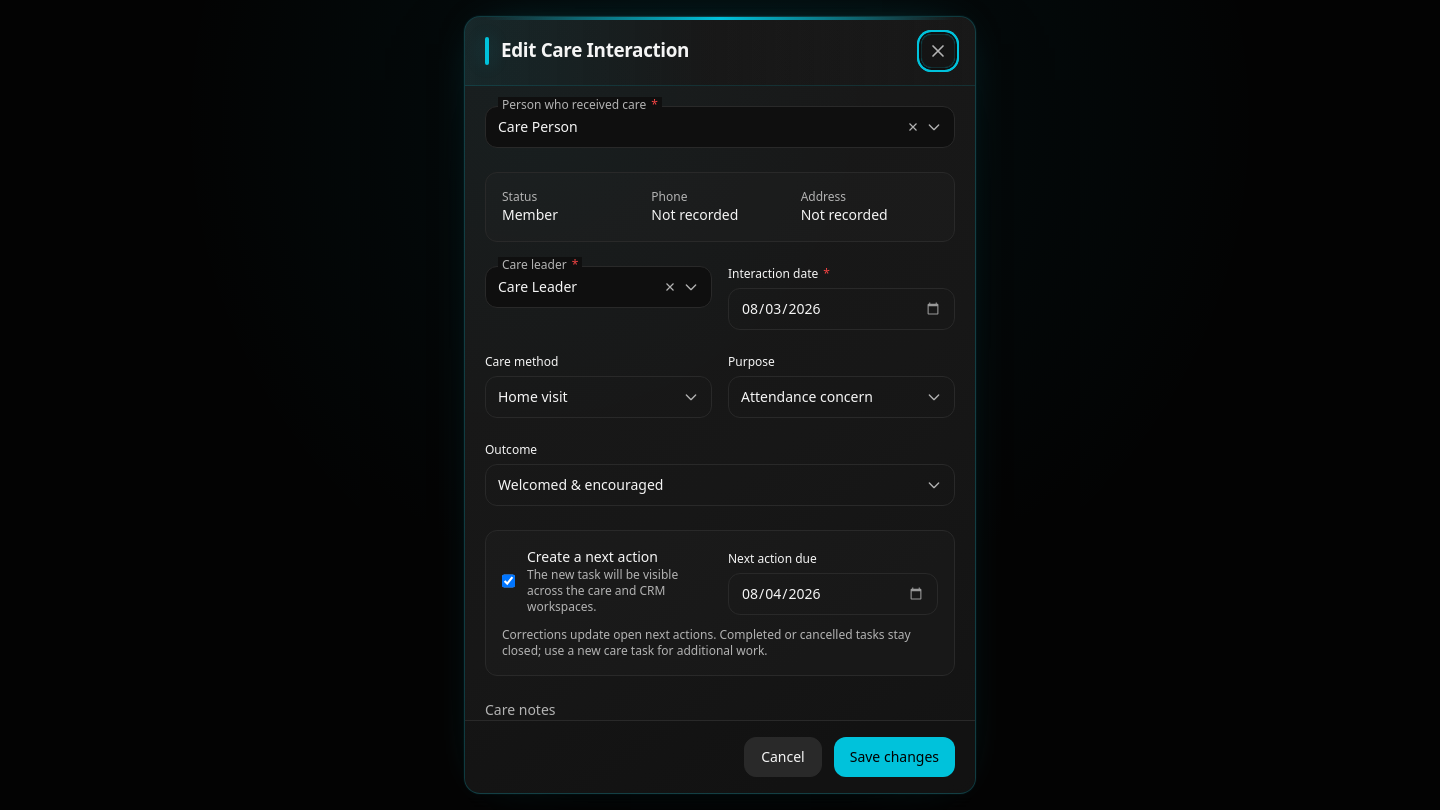
Test case: rejects a next action due before the interaction date before saving
Expected: the date field labelled "Interaction date *" holds "2026-08-03", [729,289,954,329]
Type "2026-08-02" into the date field labelled "Next action due" at (833, 594), box [729,574,937,614]
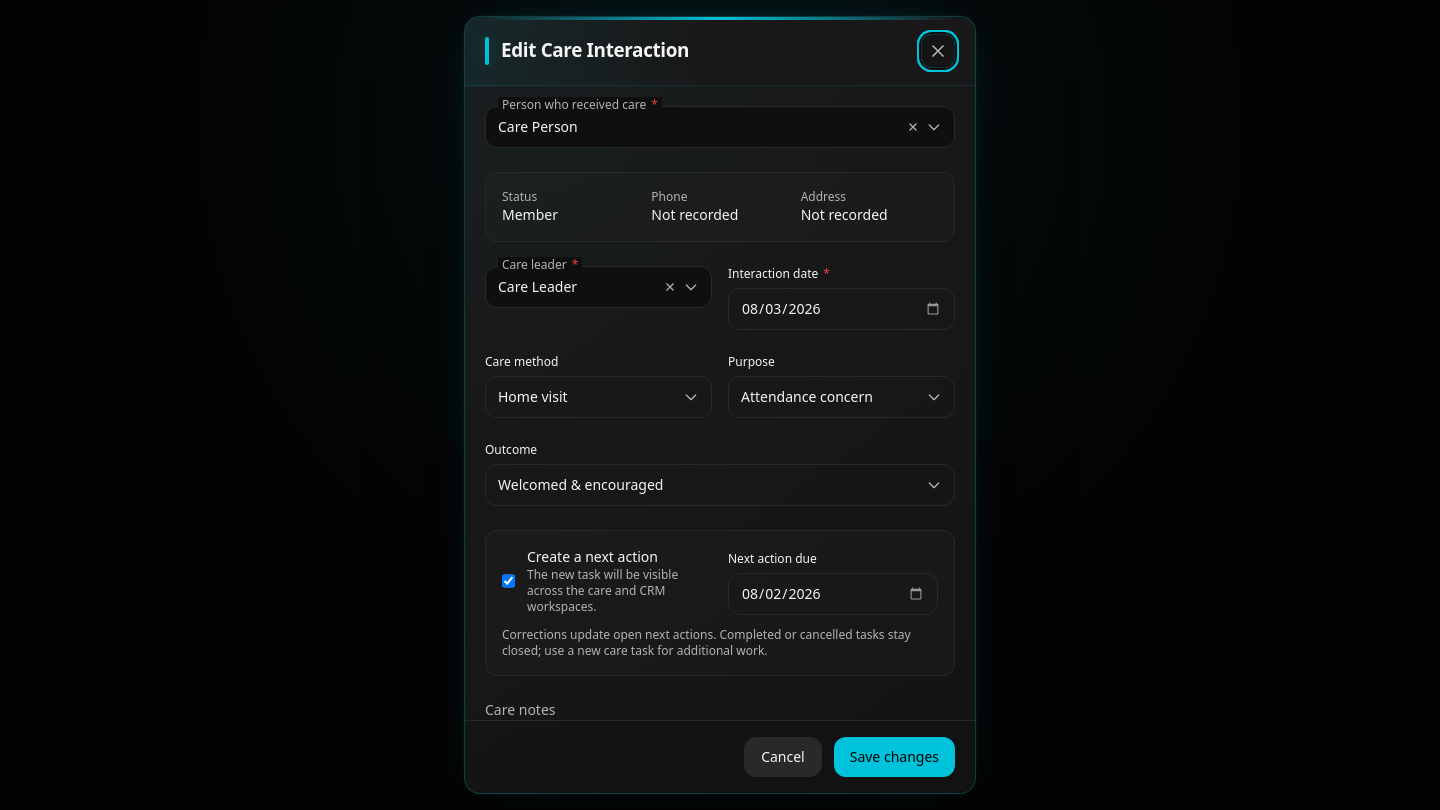
Click the button "Save changes" at (894, 757), box [834,737,955,777]
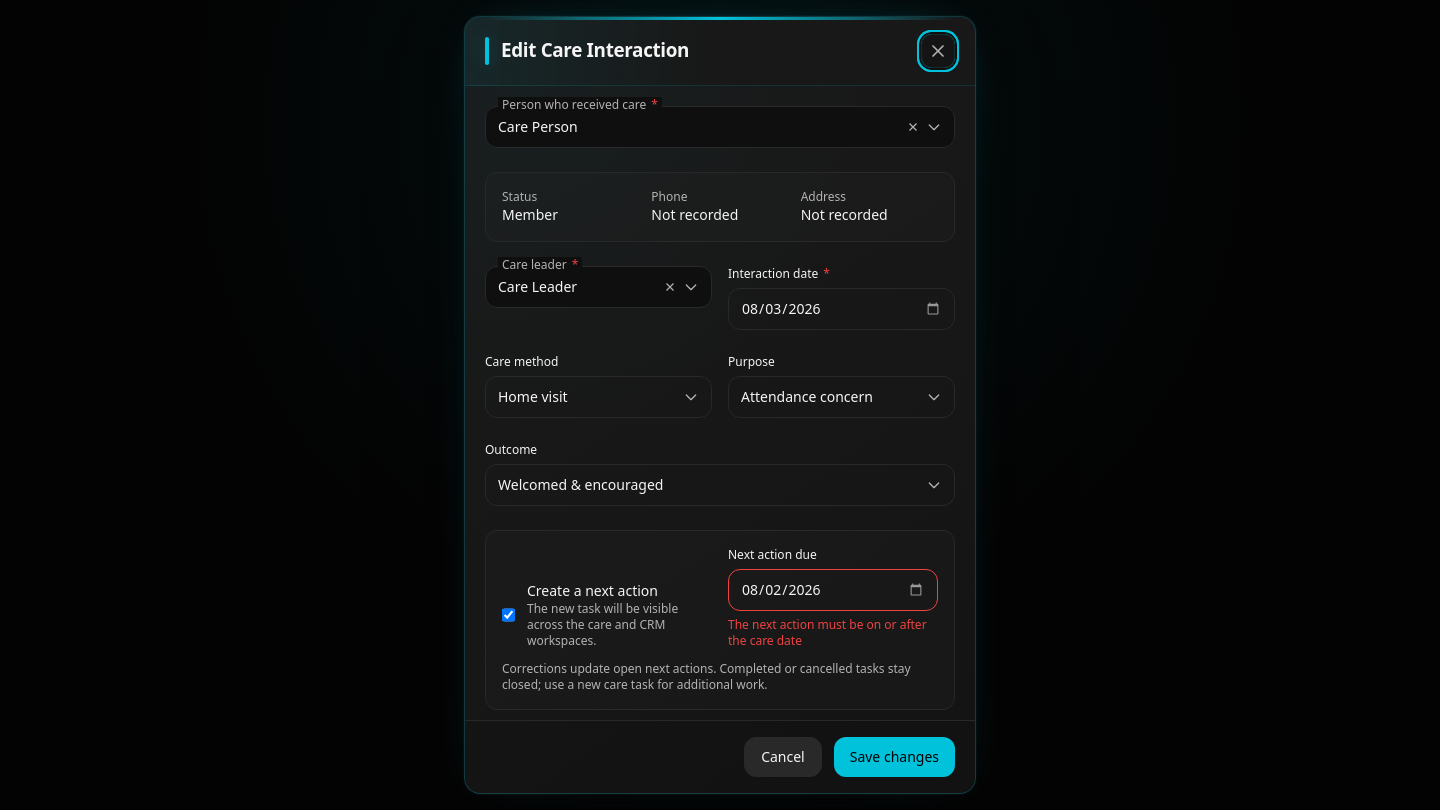
Expected: the text "The next action must be on or after the care date" is shown, [728,617,938,649]
